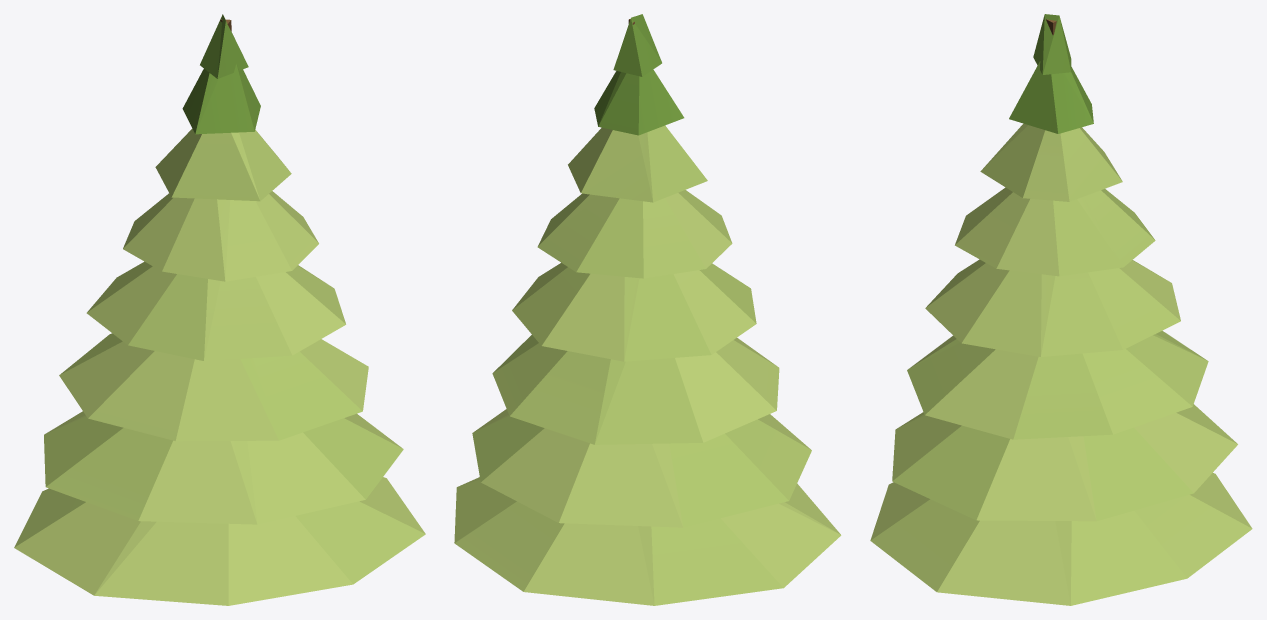
The picture shows the model from 3 angles, left to right: view 1: azimuth 30°, elevation 25°; view 2: azimuth 150°, elevation 25°; view 3: azimuth 270°, elevation 25°; orthographic projection.
Parts seen in each view (by area): view 1: WK_Tree_Spruce_SunlitDense_LOD2_Compact; view 2: WK_Tree_Spruce_SunlitDense_LOD2_Compact; view 3: WK_Tree_Spruce_SunlitDense_LOD2_Compact.
Boxes of the visible parts, x1=… form: WK_Tree_Spruce_SunlitDense_LOD2_Compact: x1=14, y1=14, x2=425, y2=605; WK_Tree_Spruce_SunlitDense_LOD2_Compact: x1=454, y1=14, x2=841, y2=605; WK_Tree_Spruce_SunlitDense_LOD2_Compact: x1=870, y1=14, x2=1252, y2=605.
Bounding box in the file's own units: 4.56 × 7.07 × 4.32.
